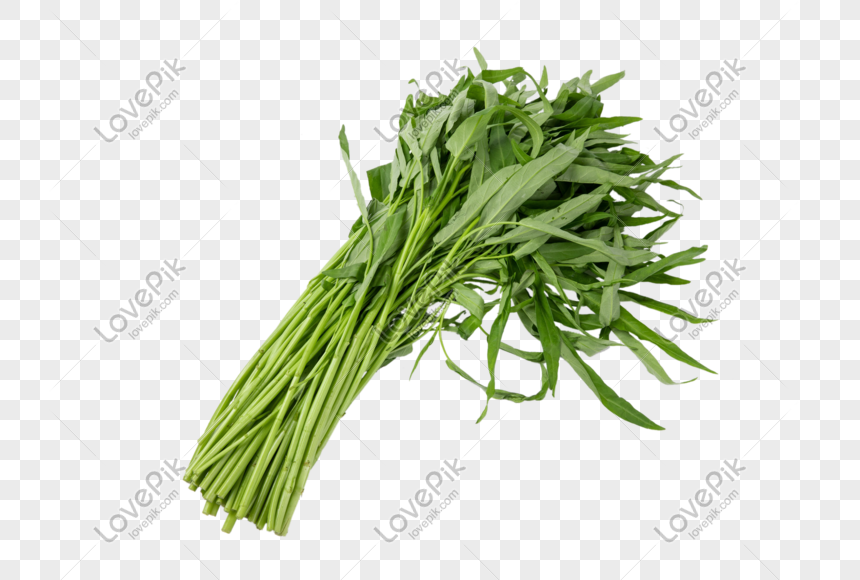Kangkung: (193, 59, 704, 519)
